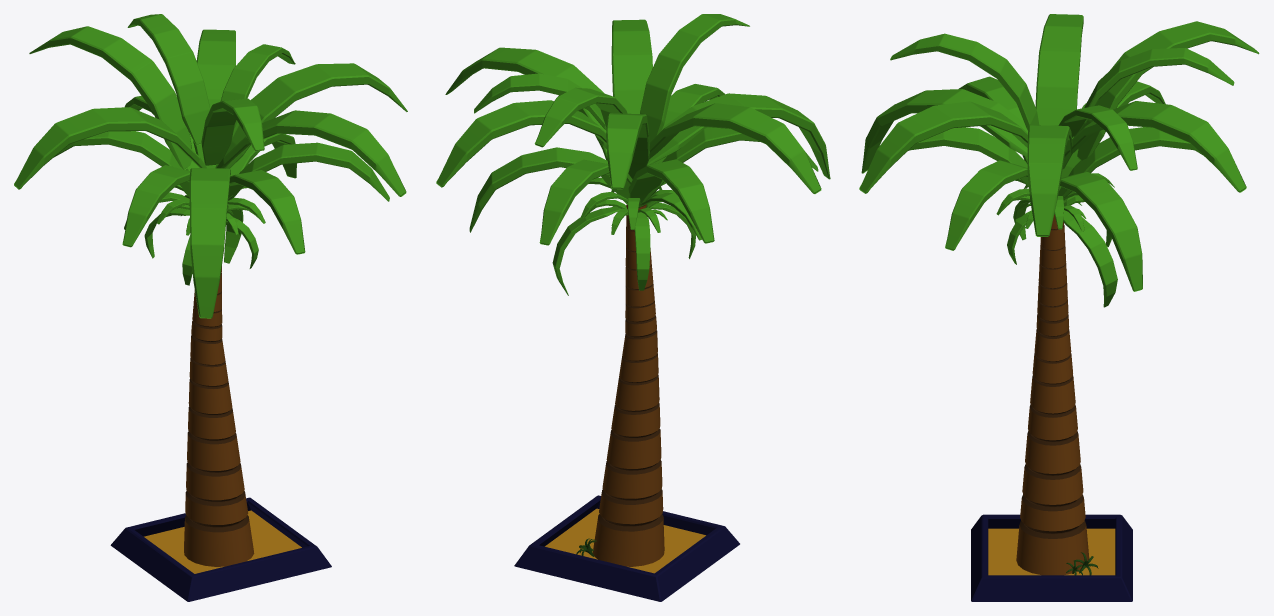
The model's file is Palm Tree.fbx.
3 views of the same model, side by side, from view 1: azimuth 30°, elevation 25°; view 2: azimuth 150°, elevation 25°; view 3: azimuth 270°, elevation 25° (orthographic). The views are drawn at different scales.
Parts seen in each view (by area): view 1: pasted__polySurface86; view 2: pasted__polySurface86; view 3: pasted__polySurface86.
Part boxes in pixels (<box>): pasted__polySurface86: <box>14,14,407,601</box>; pasted__polySurface86: <box>436,14,830,601</box>; pasted__polySurface86: <box>859,14,1259,601</box>.
Size of the model in its own units: 10.54 by 13.27 by 9.4.
